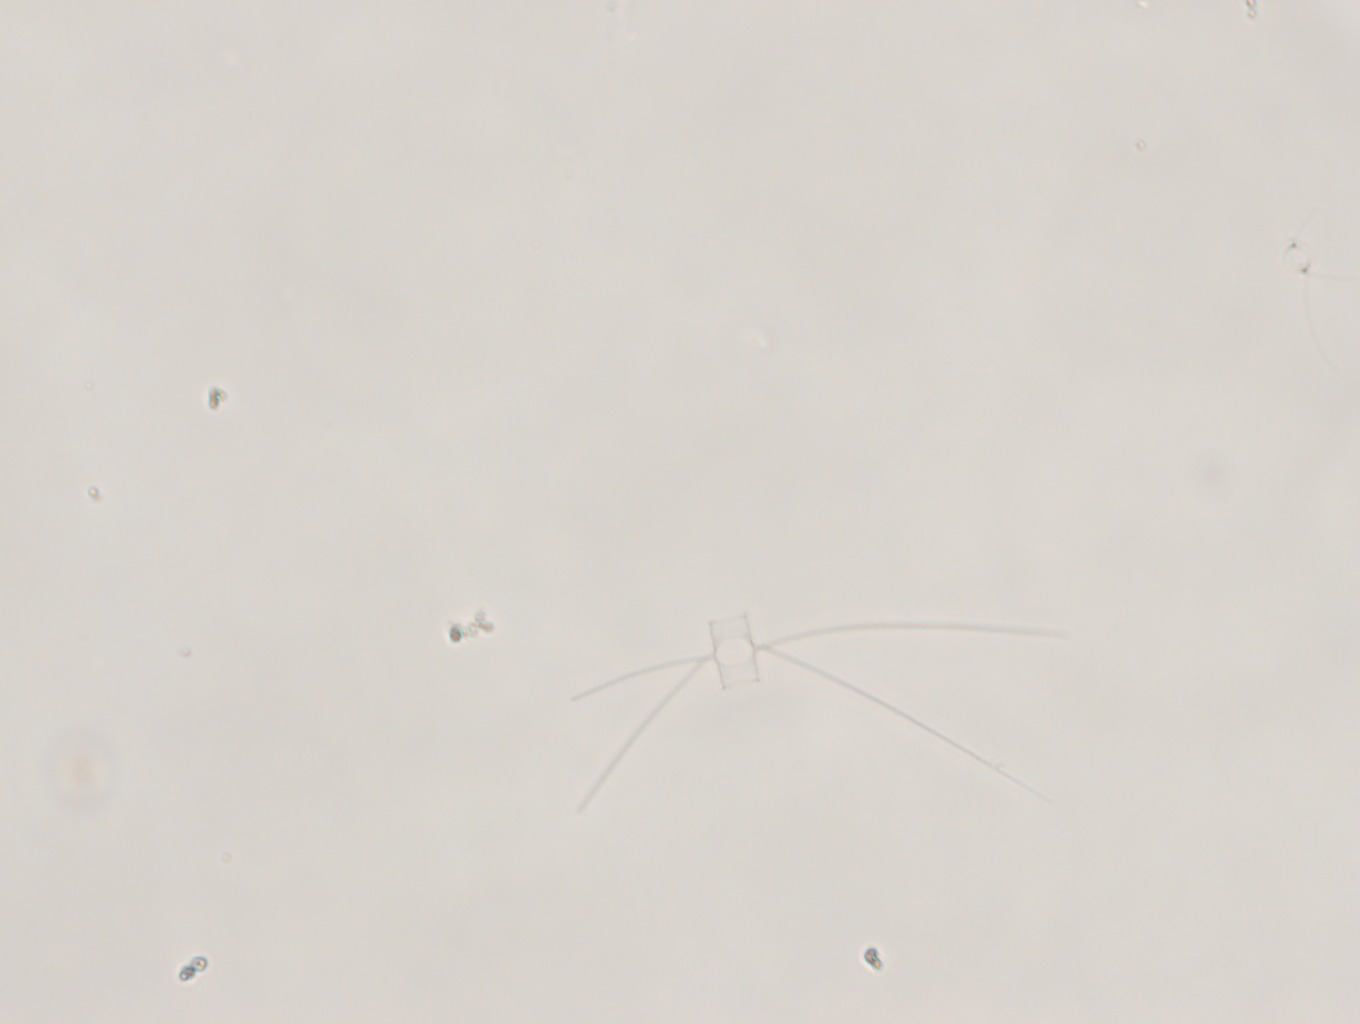chaetoceros: (544, 591, 1083, 811)
